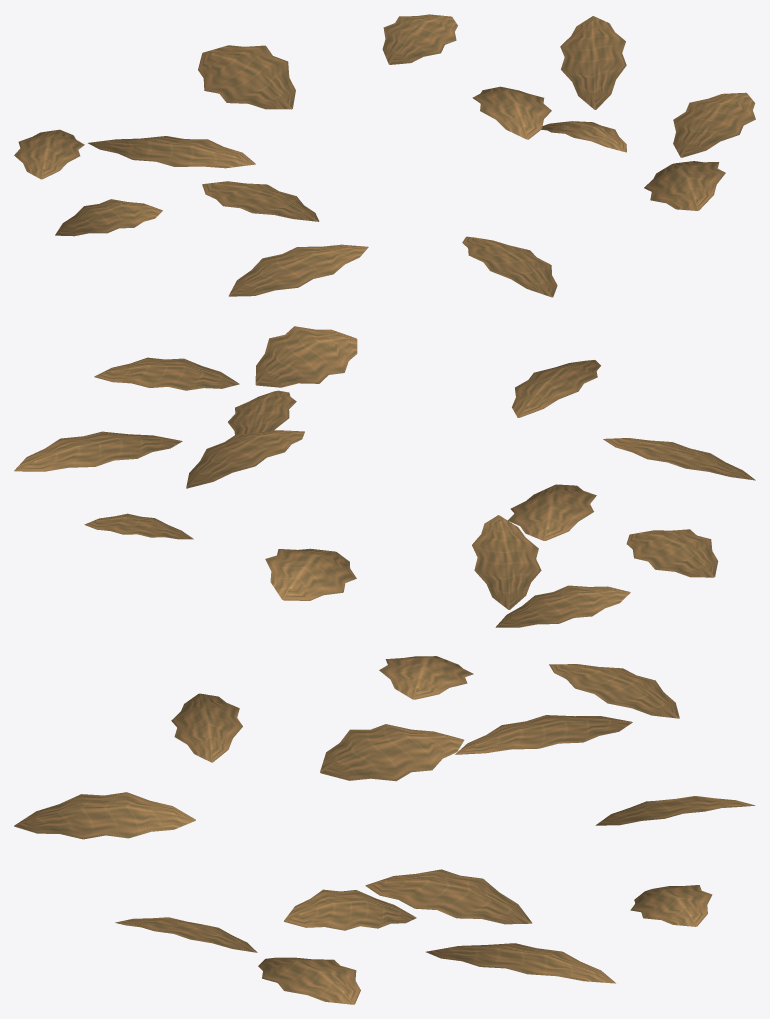
Rendered from BeechLitter_B.fbx.
3 views of the same model, one above another, from view 1: azimuth 30°, elevation 25°; view 2: azimuth 150°, elevation 25°; view 3: azimuth 270°, elevation 25° (orthographic). The views are drawn at different scales.
Parts seen in each view (by area): view 1: BeechLitter_B_LOD0; view 2: BeechLitter_B_LOD0; view 3: BeechLitter_B_LOD0.
Part boxes in pixels (left/top/right/bottom): BeechLitter_B_LOD0: left=14, top=14, right=755, bottom=297; BeechLitter_B_LOD0: left=14, top=326, right=755, bottom=627; BeechLitter_B_LOD0: left=14, top=656, right=755, bottom=1004.
Size of what is drawn, in the model's own units: 36.76 by 1.41 by 32.13.
1 material, 1 textured.
